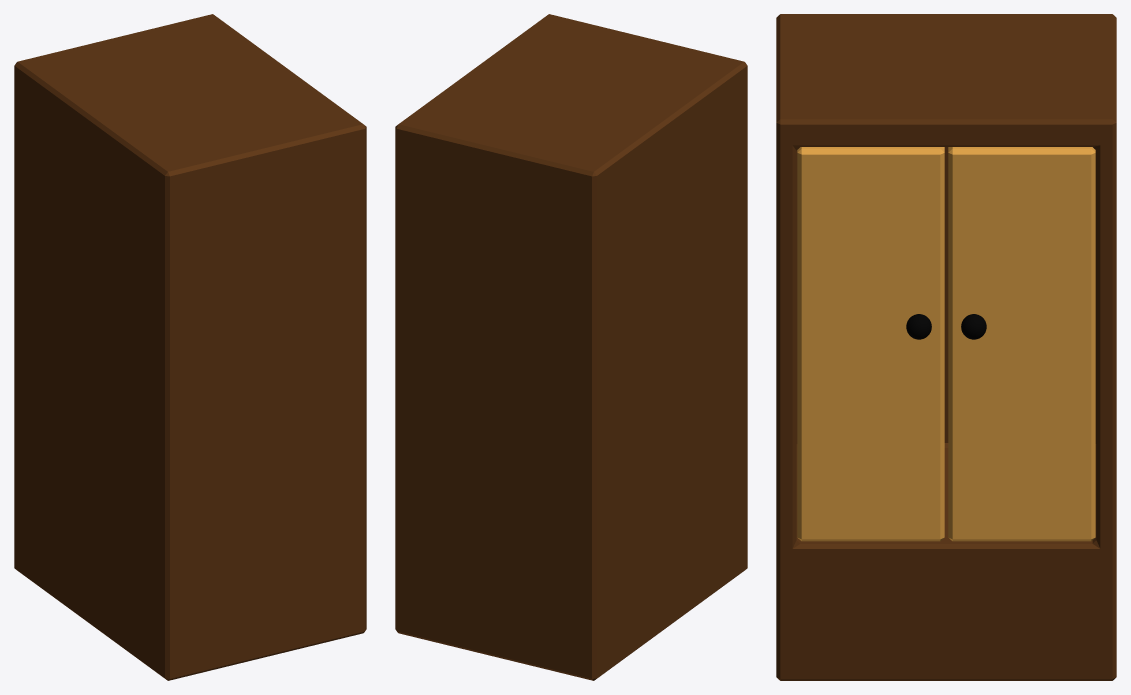
The model's file is Shadow_Closet.fbx.
3 renders of one model, left to right at view 1: azimuth 30°, elevation 25°; view 2: azimuth 150°, elevation 25°; view 3: azimuth 270°, elevation 25°, orthographic. The views are drawn at different scales.
Parts seen in each view (by area): view 1: Cube; view 2: Cube; view 3: Cube, Sphere, Sphere.001.
Part boxes in pixels (bbox=[...]): Cube: bbox=[14, 14, 366, 680]; Cube: bbox=[395, 14, 747, 680]; Cube: bbox=[776, 14, 1116, 680]; Sphere: bbox=[948, 147, 1095, 541]; Sphere.001: bbox=[797, 147, 944, 541].
Size of the model in its own units: 215 by 483 by 265.
